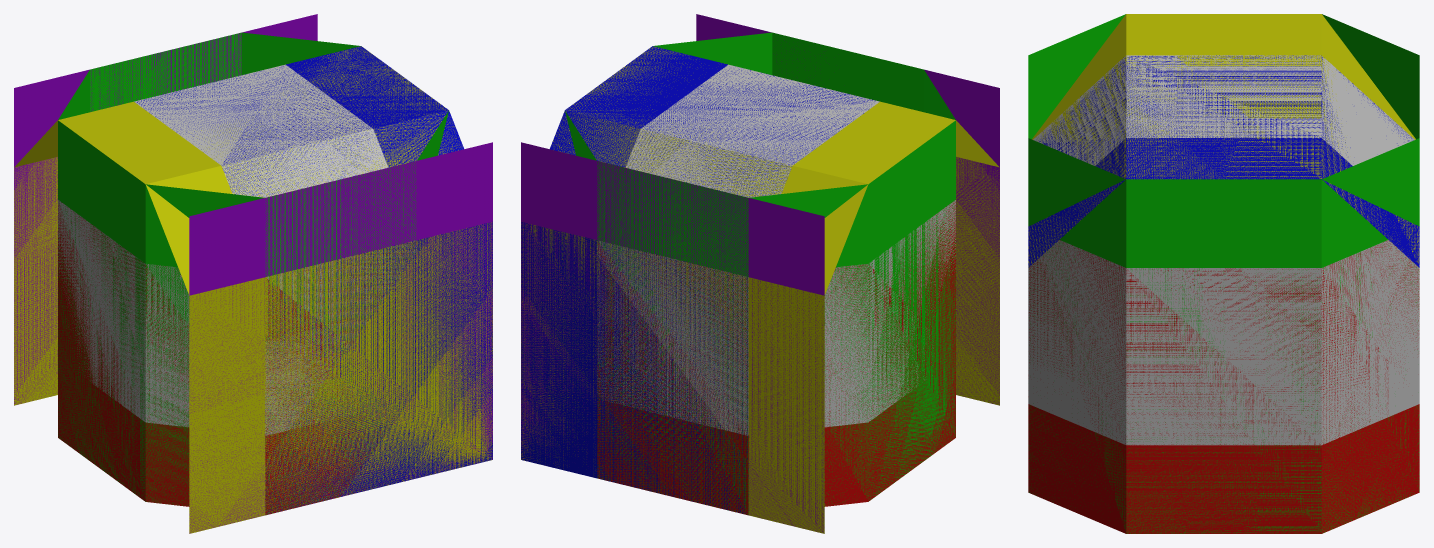
Rendered from debug.glb.
The picture shows the model from 3 angles, left to right: view 1: azimuth 30°, elevation 25°; view 2: azimuth 150°, elevation 25°; view 3: azimuth 270°, elevation 25°; orthographic projection. The views are drawn at different scales.
Visible parts, largest first — view 1: tee, cross, straight, corner, solo, end; view 2: straight, corner, solo, tee, cross, end; view 3: solo, straight, end, tee, corner.
Part boxes in pixels (<box>): tee: <box>14,46,492,533</box>; cross: <box>14,14,492,533</box>; straight: <box>58,32,448,514</box>; corner: <box>137,46,492,514</box>; solo: <box>58,64,416,435</box>; end: <box>58,203,416,514</box>; straight: <box>565,32,955,514</box>; corner: <box>521,46,875,513</box>; solo: <box>597,64,955,435</box>; tee: <box>521,46,999,533</box>; cross: <box>521,14,999,532</box>; end: <box>597,202,955,515</box>; solo: <box>1028,55,1419,445</box>; straight: <box>1028,14,1419,533</box>; end: <box>1028,240,1419,533</box>; tee: <box>1028,14,1419,266</box>; corner: <box>1028,55,1419,267</box>.
Bounding box in the file's own units: 1 × 1 × 1.
